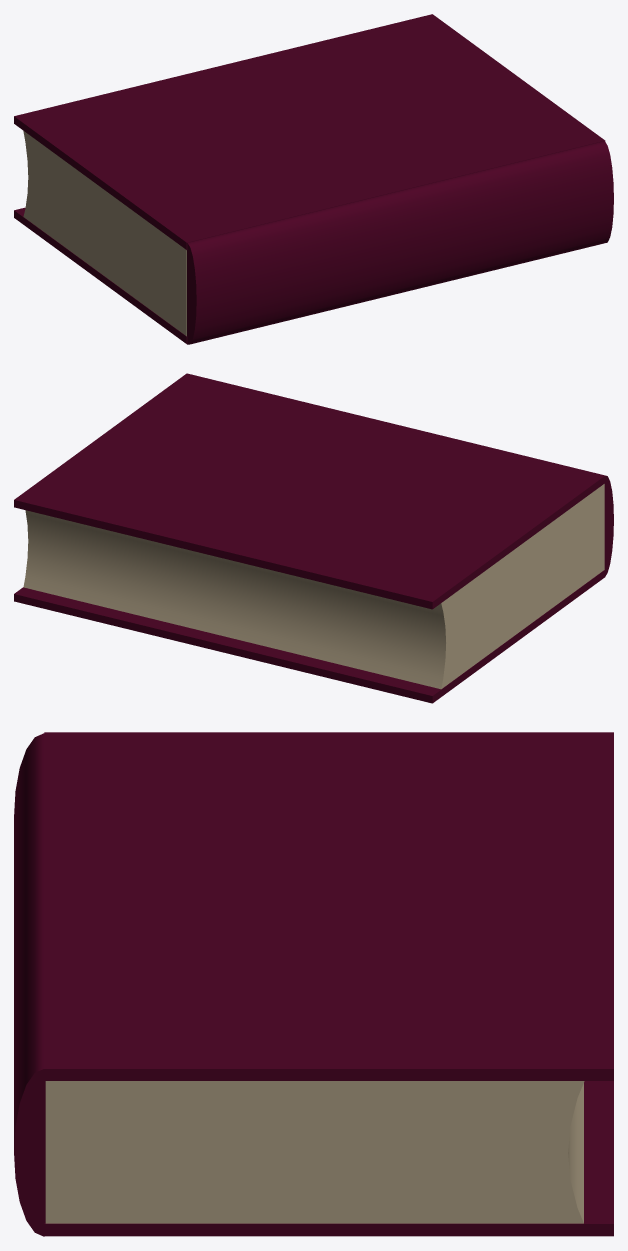
Rendered from book.fbx.
The picture shows the model from 3 angles, top to bottom: view 1: azimuth 30°, elevation 25°; view 2: azimuth 150°, elevation 25°; view 3: azimuth 270°, elevation 25°; orthographic projection. The views are drawn at different scales.
Parts seen in each view (by area): view 1: pCylinder2, pasted__pCube2; view 2: pCylinder2, pasted__pCube2; view 3: pCylinder2, pasted__pCube2.
Part boxes in pixels (x1,y1,x2,y2): pCylinder2: (14,14,613,344); pasted__pCube2: (14,207,187,343); pCylinder2: (14,373,613,689); pasted__pCube2: (14,569,605,703); pCylinder2: (14,732,613,1236); pasted__pCube2: (44,1081,613,1236).
Bounding box in the file's own units: 6.05 × 1.41 × 4.56.
